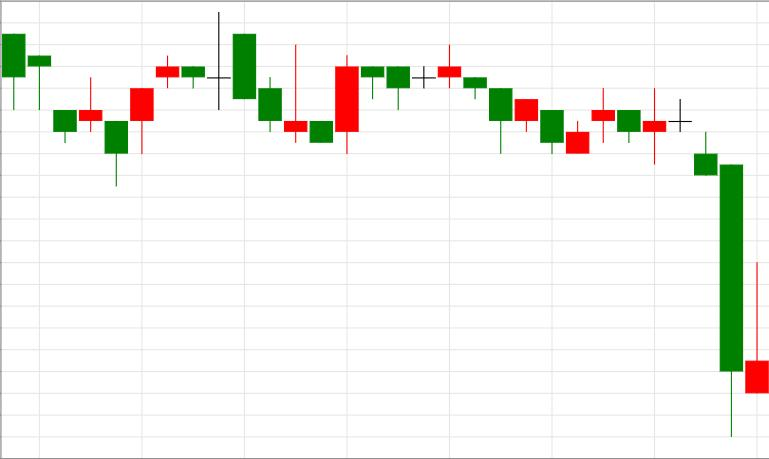inverse_hammer_rise: (617, 88, 768, 437)
